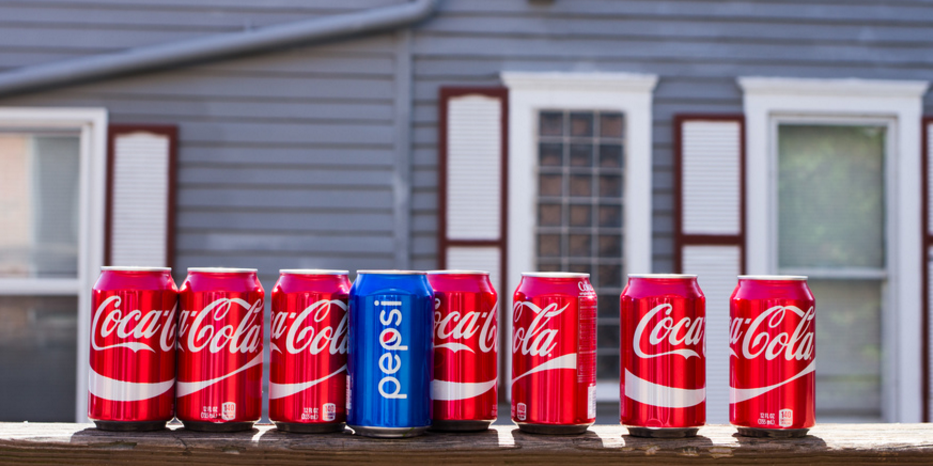coke: (511, 279, 600, 440), (620, 276, 709, 431), (268, 268, 350, 430), (730, 280, 820, 426), (97, 268, 175, 430), (181, 268, 259, 425), (436, 275, 501, 420)
